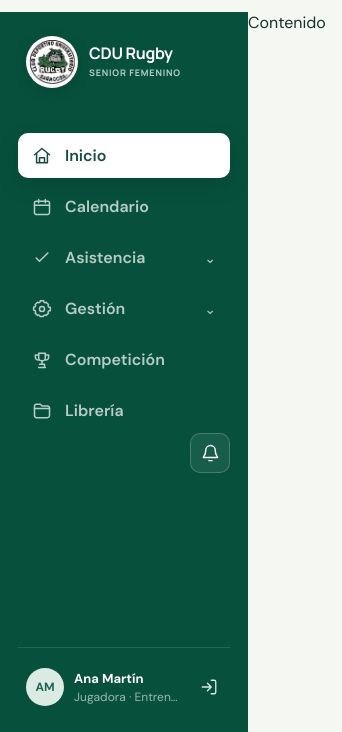
Test case: AppLayout › gives coaches every sports area but not settings
Expected: the button "Calendario" is shown, [18,184,230,229]
Expected: the button "Competición" is shown, [18,337,230,382]
Step 1. Click the button "Asistencia ⌄" → (124,258), box [18,235,230,280]
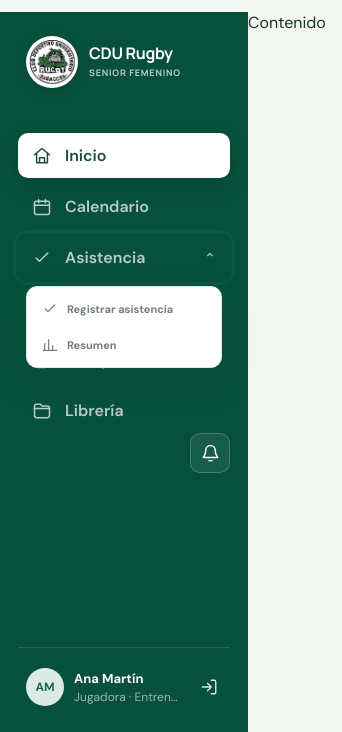
Expected: the menu item "Resumen" is shown, [32,328,216,362]
